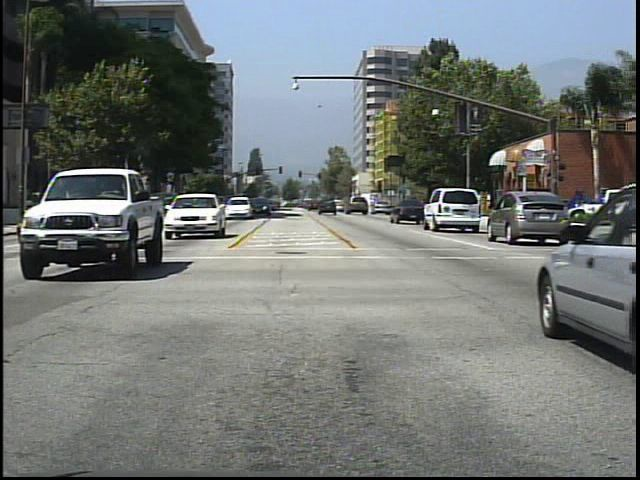person: (494, 189, 513, 228), (455, 192, 473, 228)
